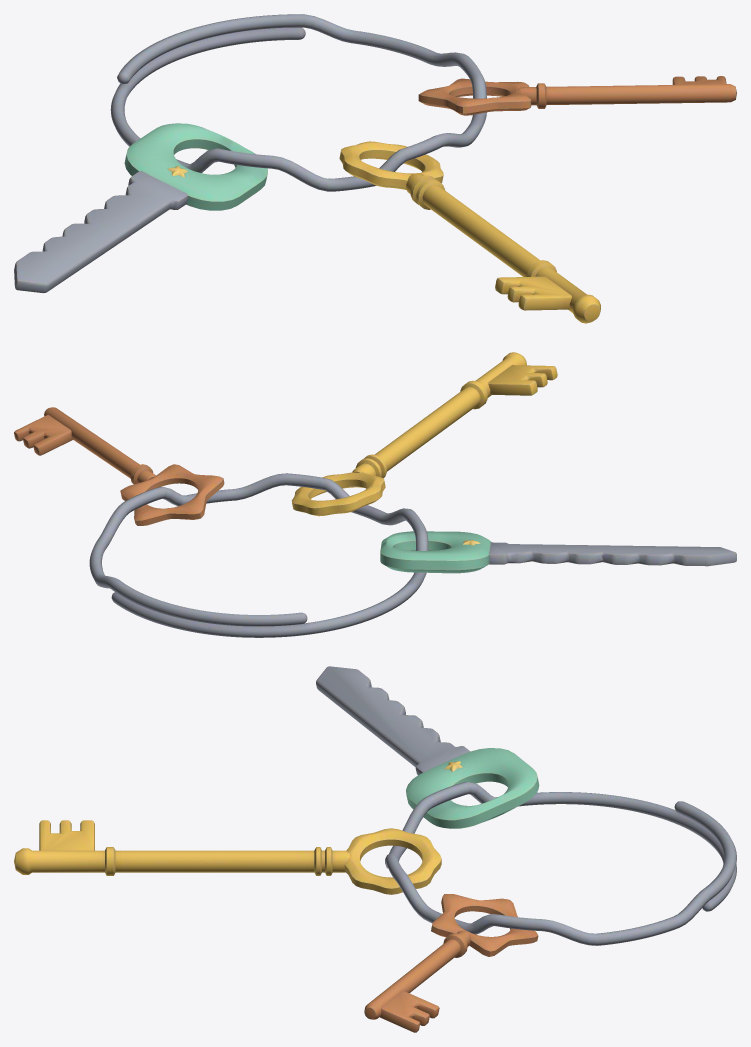
The model's file is keyring.glb.
The picture shows the model from 3 angles, top to bottom: view 1: azimuth 30°, elevation 25°; view 2: azimuth 150°, elevation 25°; view 3: azimuth 270°, elevation 25°; orthographic projection. The views are drawn at different scales.
Parts seen in each view (by area): view 1: keyring_body; view 2: keyring_body; view 3: keyring_body.
Boxes of the visible parts, x1,y1,x2,y2 form: keyring_body: (14,14,736,323); keyring_body: (14,352,736,637); keyring_body: (14,666,736,1032).
Bounding box in the file's own units: 0.1392 × 0.00711 × 0.1232.
1 material, 1 textured.
